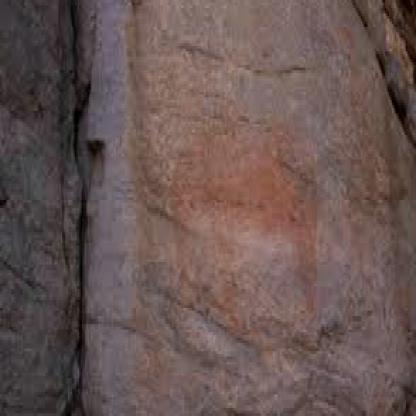Metamorphic_Quartize: (84, 0, 415, 414), (0, 0, 80, 414)
